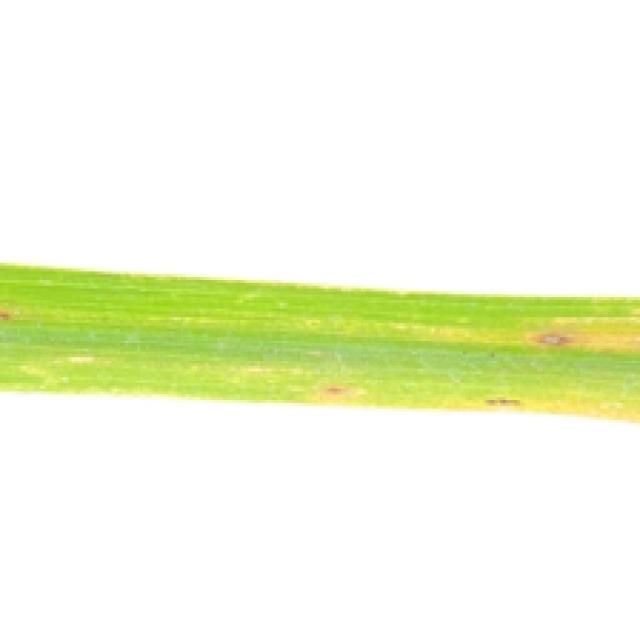Rice___Rice_Blast: (0, 264, 637, 426)
